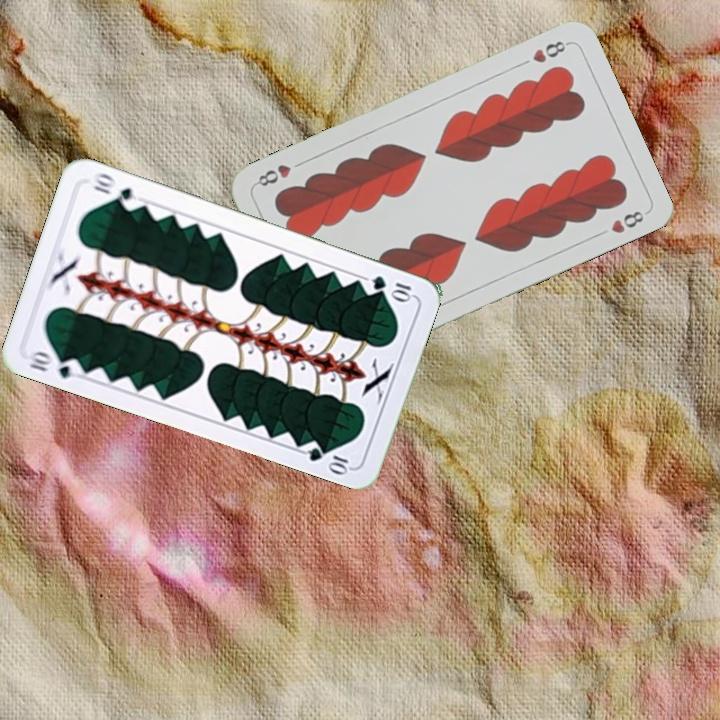G10: (24, 347, 85, 381), (368, 271, 416, 303)
H8: (528, 36, 572, 66)
